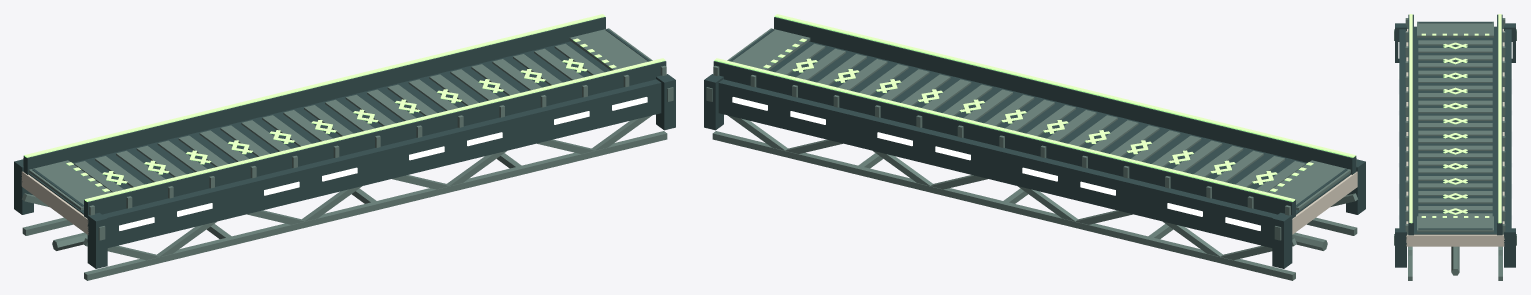
Rendered from Deck_Conveyor_Belt_v4_14_lab.glb.
3 renders of one model, left to right at view 1: azimuth 30°, elevation 25°; view 2: azimuth 150°, elevation 25°; view 3: azimuth 270°, elevation 25°, orthographic. The views are drawn at different scales.
Parts seen in each view (by area): view 1: Deck_Conveyor_Belt_v4_14, Treads, TreadsRev; view 2: Deck_Conveyor_Belt_v4_14, Treads, TreadsRev; view 3: Deck_Conveyor_Belt_v4_14, Treads, TreadsRev.
Part boxes in pixels (x1,y1,x2,y2): Deck_Conveyor_Belt_v4_14: [14, 14, 675, 280]; Treads: [74, 44, 604, 192]; TreadsRev: [76, 44, 602, 191]; Deck_Conveyor_Belt_v4_14: [704, 14, 1365, 280]; Treads: [775, 43, 1305, 192]; TreadsRev: [776, 44, 1302, 191]; Deck_Conveyor_Belt_v4_14: [1394, 14, 1516, 280]; Treads: [1418, 40, 1492, 216]; TreadsRev: [1418, 40, 1492, 216].
Size of the model in its own units: 14.06 by 1.83 by 3.48.
